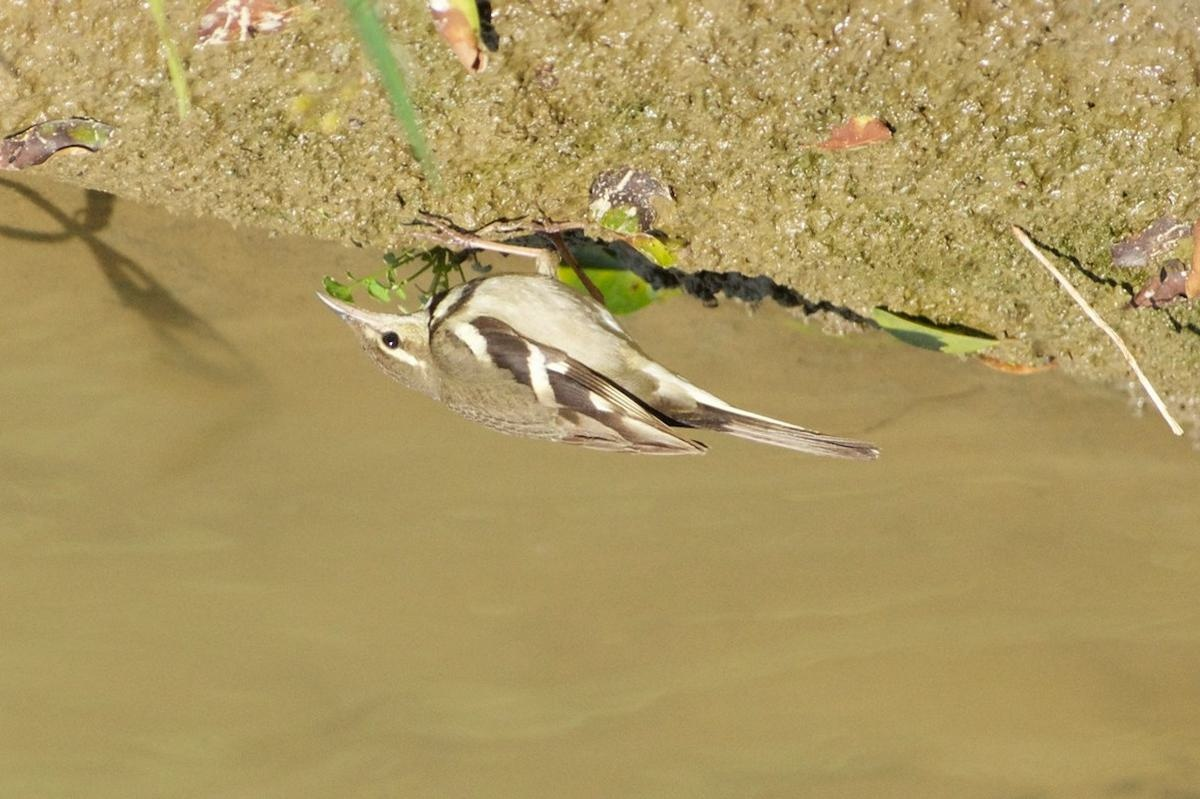wagtail: (316, 202, 879, 492)
